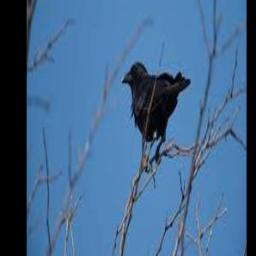Crow: (120, 60, 190, 164)
